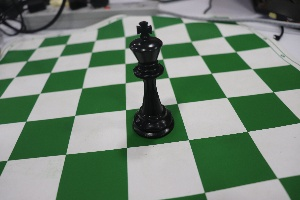black_king: (120, 7, 180, 142)
